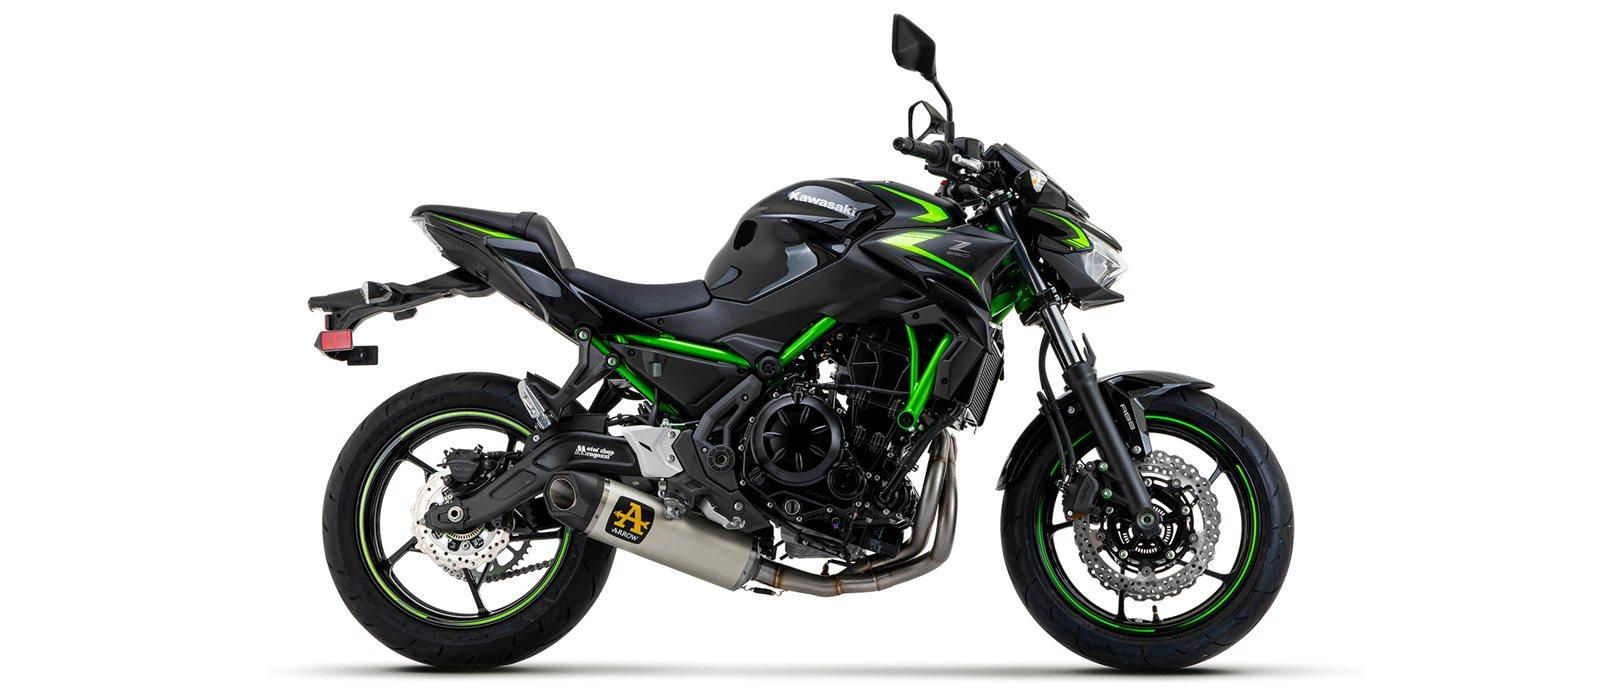engine-chasis: (620, 230, 964, 578)
exhaust: (543, 428, 958, 598)
frontside: (858, 143, 1215, 536)
handlebar: (891, 12, 1018, 211)
motorbike: (308, 13, 1295, 669)
rearside: (307, 212, 752, 534)
seat: (411, 204, 711, 320)
tank: (704, 177, 968, 304)
wheel: (320, 371, 616, 670), (999, 387, 1295, 672), (1036, 332, 1076, 474), (485, 557, 553, 585), (442, 565, 468, 584)
